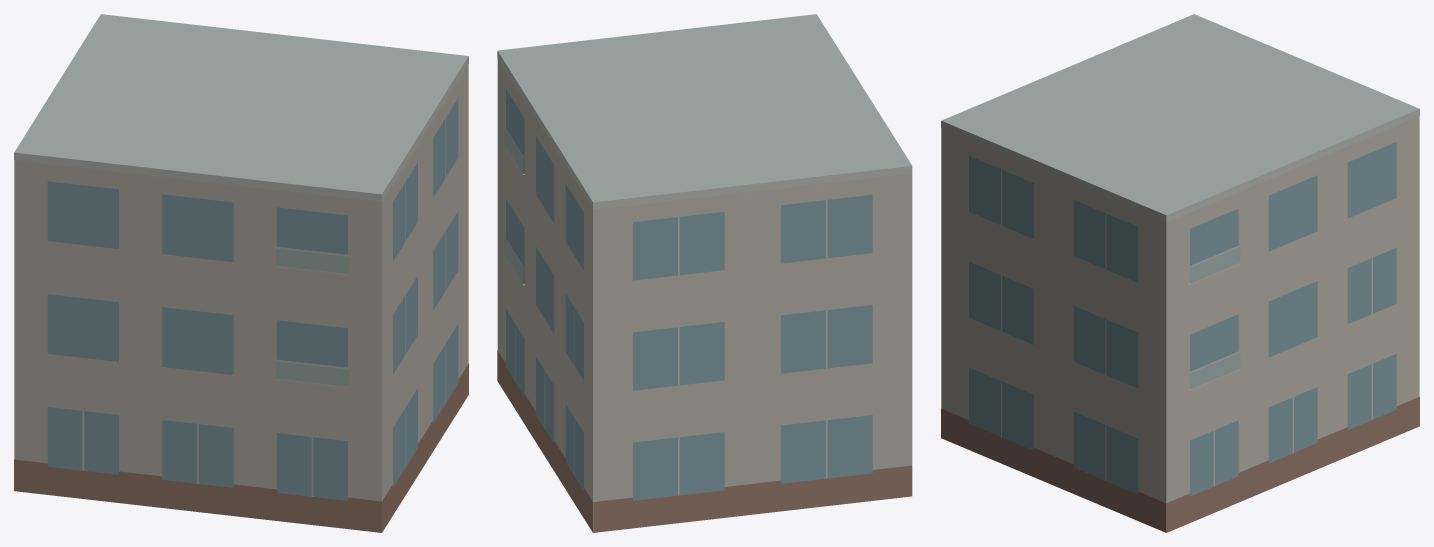
The model's file is survey-upis-33024978.glb.
The picture shows the model from 3 angles, left to right: view 1: azimuth 30°, elevation 25°; view 2: azimuth 150°, elevation 25°; view 3: azimuth 270°, elevation 25°; orthographic projection. The views are drawn at different scales.
Visible parts, largest first — view 1: survey-upis-33024978.tmp; view 2: survey-upis-33024978.tmp; view 3: survey-upis-33024978.tmp.
Part boxes in pixels (bbox=[...]): survey-upis-33024978.tmp: bbox=[14, 14, 468, 532]; survey-upis-33024978.tmp: bbox=[497, 14, 912, 532]; survey-upis-33024978.tmp: bbox=[941, 14, 1419, 532].
Size of the model in its own units: 14.42 by 10.6 by 14.48.
